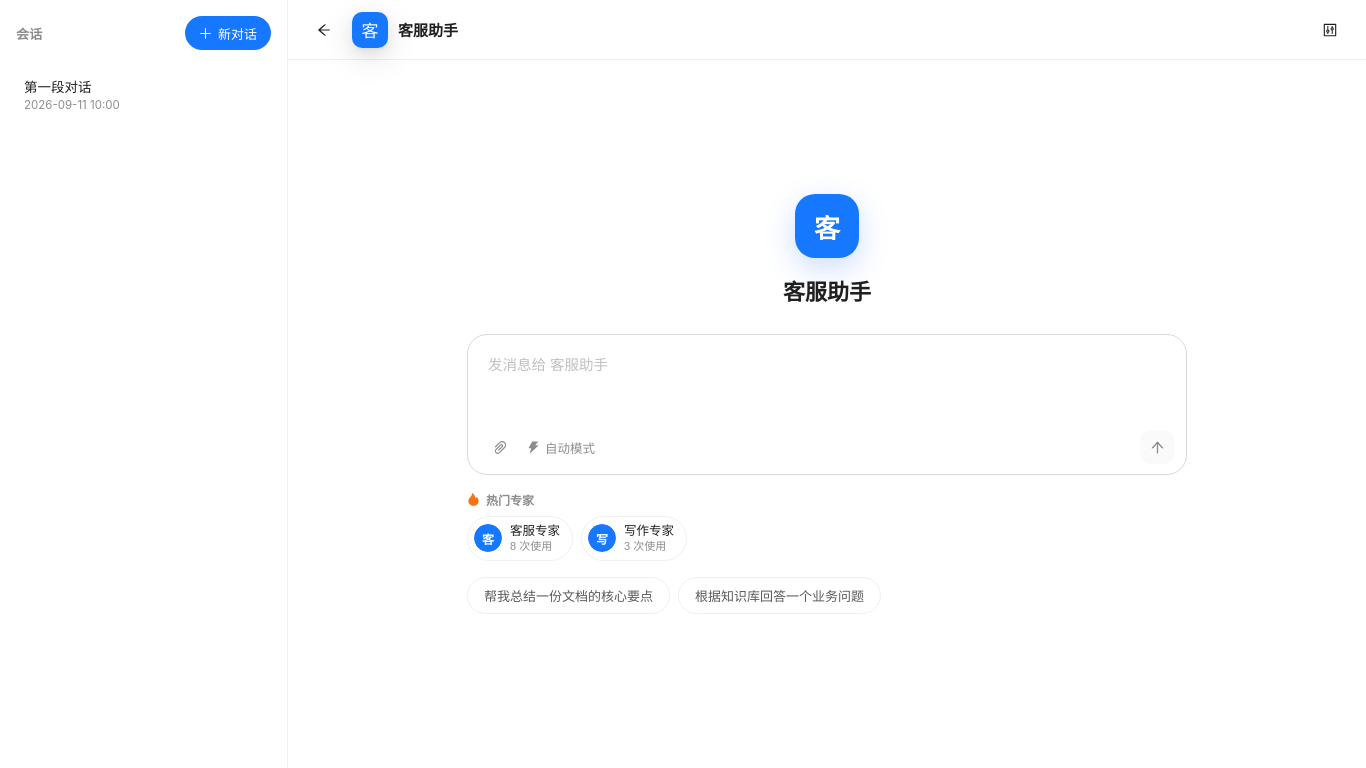
Scenario: AppChat（Agent 应用对话页） › 打开应用设置面板：专家列表展示个人与团队提示词（右上角无独立专家按钮）
Expected: the text "第一段对话" is shown, [24, 76, 92, 96]
What coordinates should you click on to do the following:
click the button named "应用设置"
I would click on:
 (1330, 30)
Its box is [1314, 14, 1346, 46].
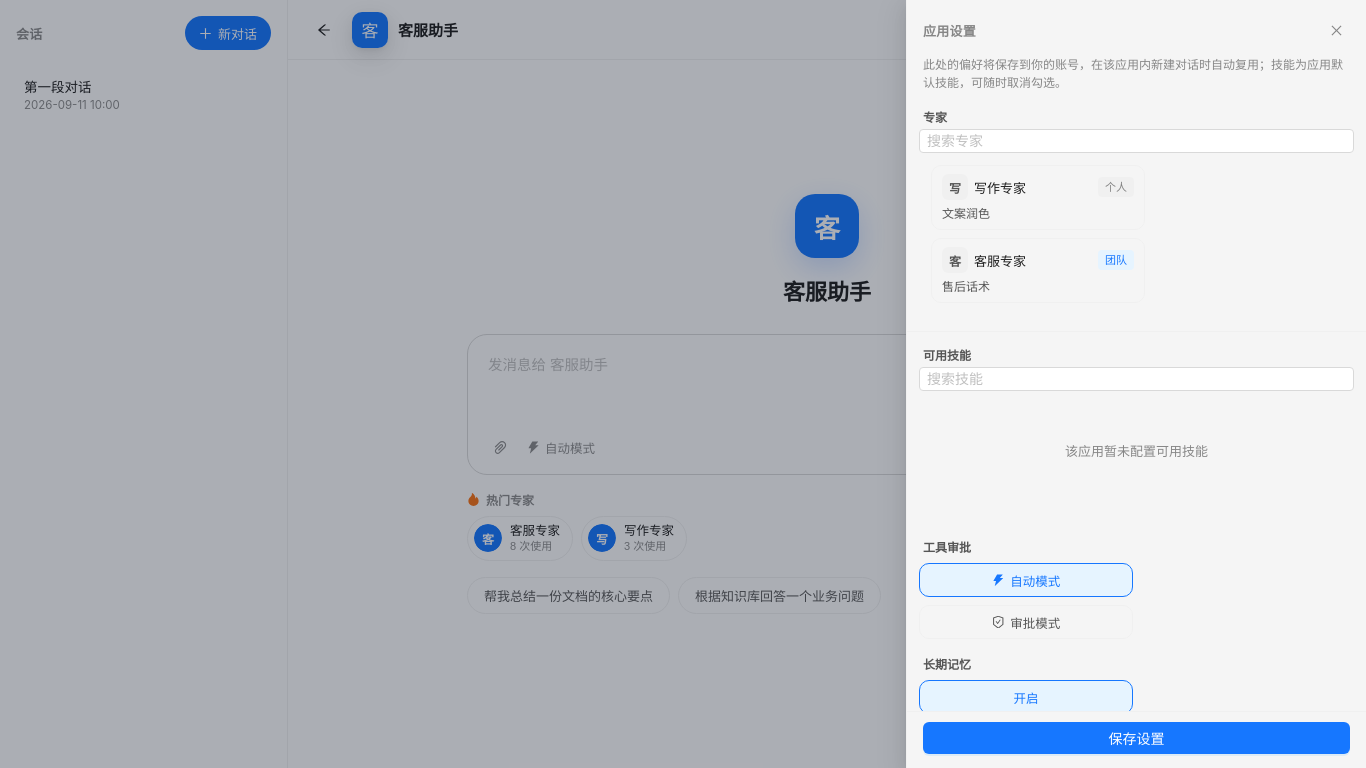
Expected: the text "文案润色" is shown, [942, 206, 990, 221]
Expected: the text "个人" is shown, [1098, 177, 1134, 197]
Expected: the text "团队" is shown, [1098, 250, 1134, 270]
